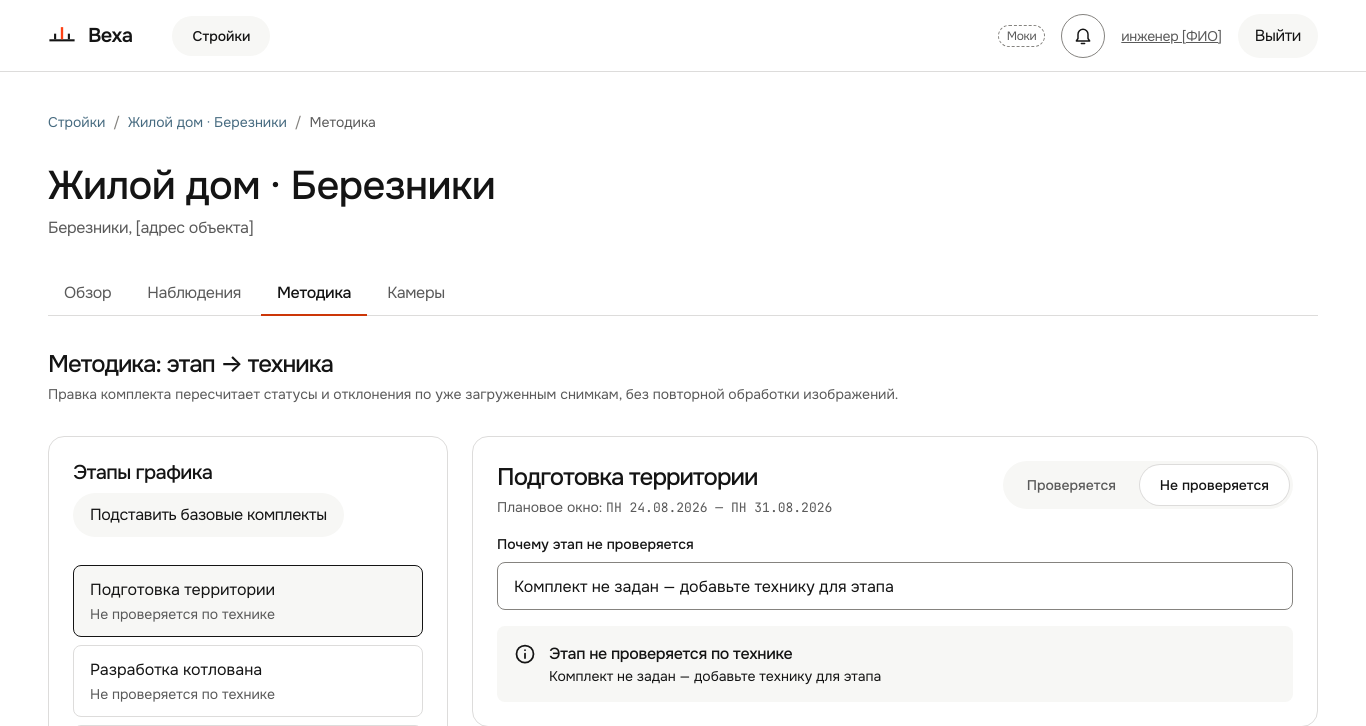
it: MethodologyPage › opens and closes the apply defaults dialog
This screenshot has width=1366, height=726.
Click the button "Подставить базовые комплекты".
click(208, 515)  # box [73,493,344,537]
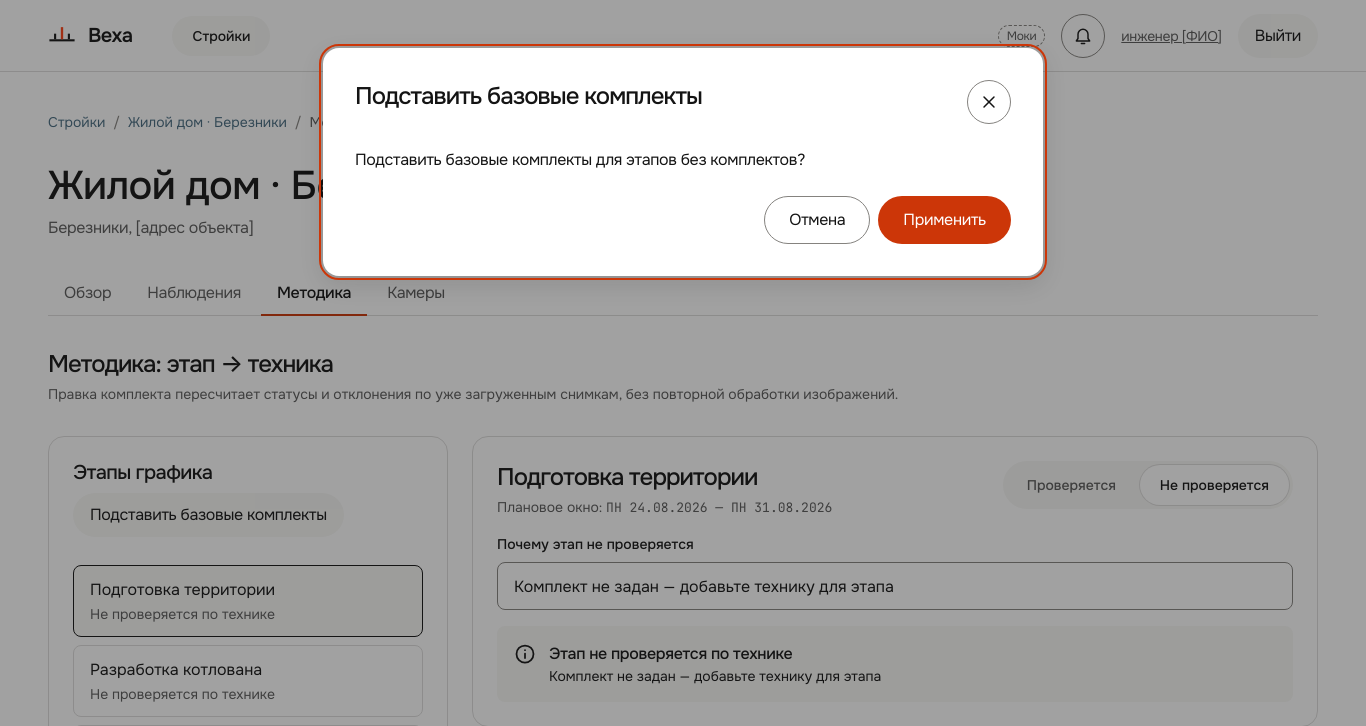
Now the dialog is shown, box [323,48,1043,276]
Now the text "Подставить базовые комплекты для этапов без комплектов?" is shown, box [355,149,805,170]
Click the button "Отмена".
click(817, 220)  # box [764,196,870,244]
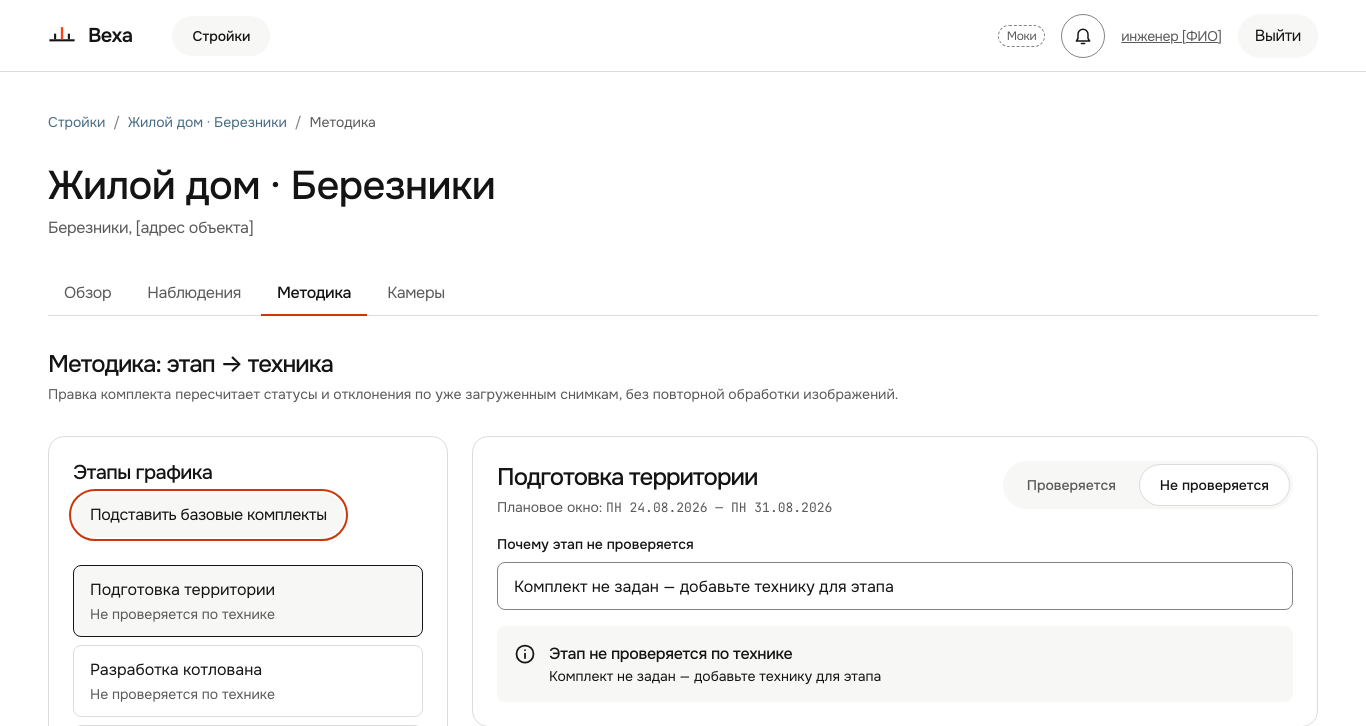
Now the dialog is gone
